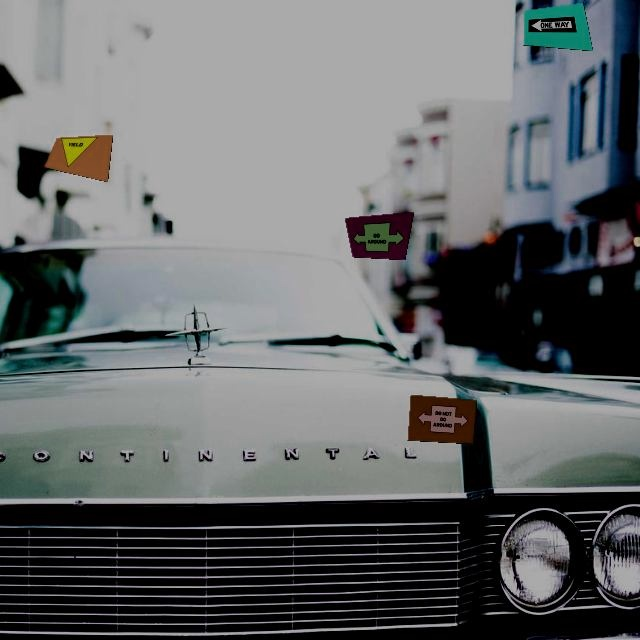DO_NOT_GO_AROUND: (416, 404, 469, 434)
GO_AROUND: (351, 221, 407, 253)
ONE_WAY_ left: (529, 17, 576, 32)
YIELD: (51, 135, 98, 172)
